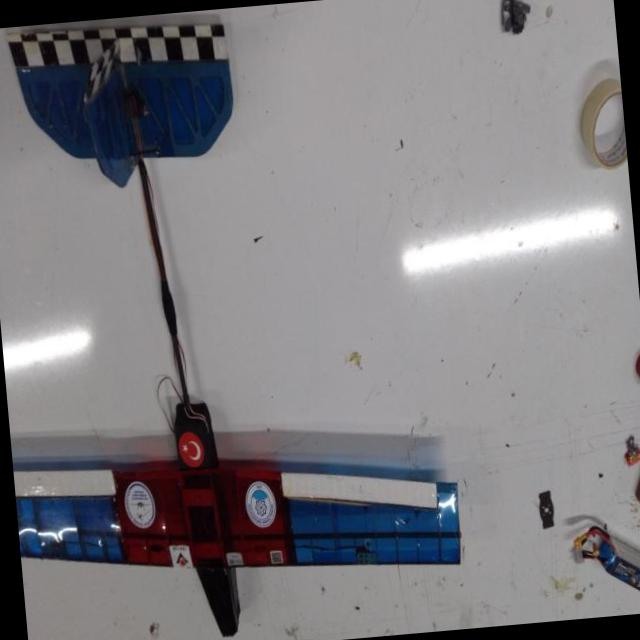UAV: (0, 0, 471, 637)
